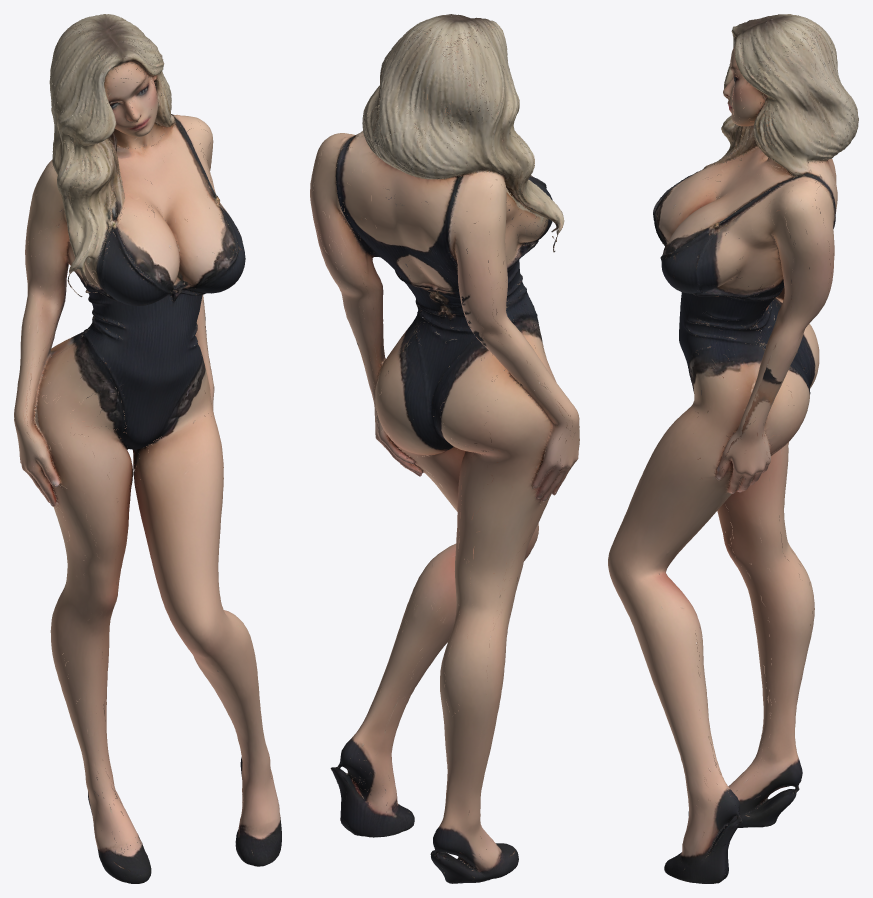
Rendered from kimberly.glb.
3 renders of one model, left to right at view 1: azimuth 30°, elevation 25°; view 2: azimuth 150°, elevation 25°; view 3: azimuth 270°, elevation 25°, orthographic. The views are drawn at different scales.
Visible parts, largest first — view 1: Object_4, Object_5, Object_6; view 2: Object_4, Object_5, Object_6; view 3: Object_4, Object_5, Object_6.
Boxes of the visible parts, left/top/right/bottom form: Object_4: left=14, top=14, right=281, bottom=883; Object_5: left=25, top=16, right=271, bottom=883; Object_6: left=14, top=19, right=212, bottom=851; Object_4: left=310, top=14, right=579, bottom=883; Object_5: left=312, top=15, right=575, bottom=883; Object_6: left=318, top=18, right=575, bottom=883; Object_4: left=608, top=14, right=858, bottom=883; Object_5: left=693, top=14, right=855, bottom=883; Object_6: left=739, top=15, right=858, bottom=824.
Size of the model in its own units: 0.6085 by 2 by 0.5638.
Materials: 1 (1 with a texture image).
